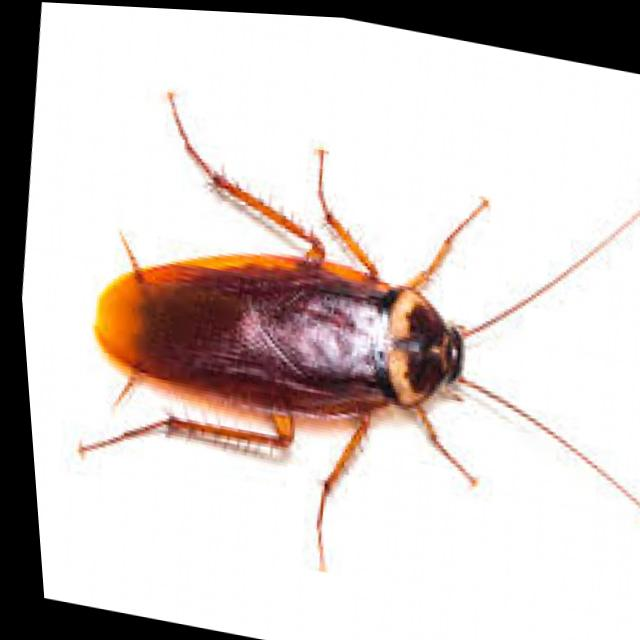Cockroach: (31, 51, 640, 633)
